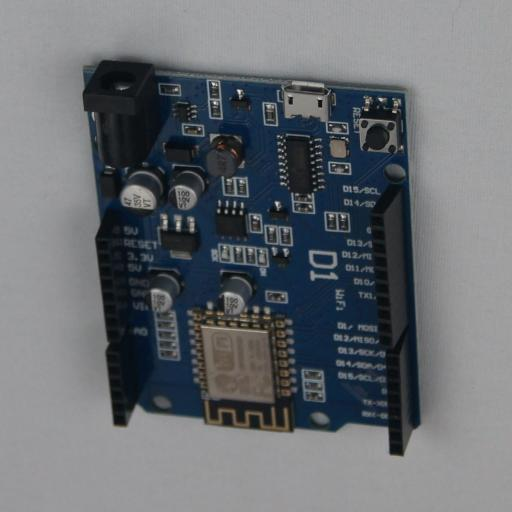Arduino Uno WiFi Shield: (82, 56, 420, 456)
